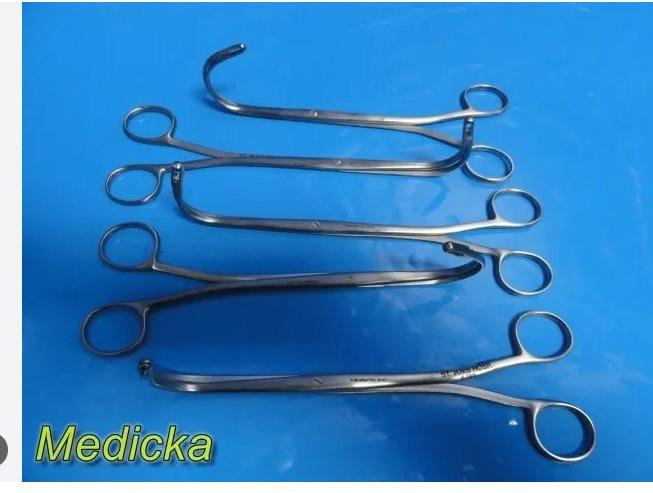Randall: (65, 210, 489, 360), (161, 159, 562, 291)
